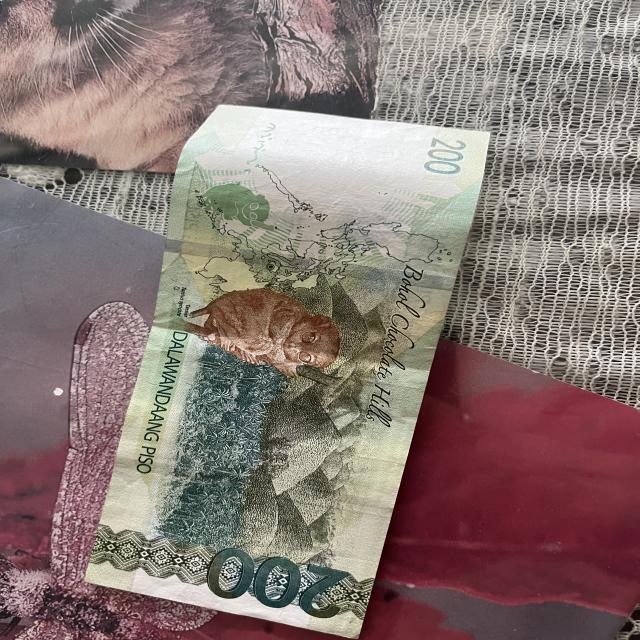200_tarsier: (168, 275, 372, 393)
200_tarsier_watermark: (179, 179, 294, 259)
